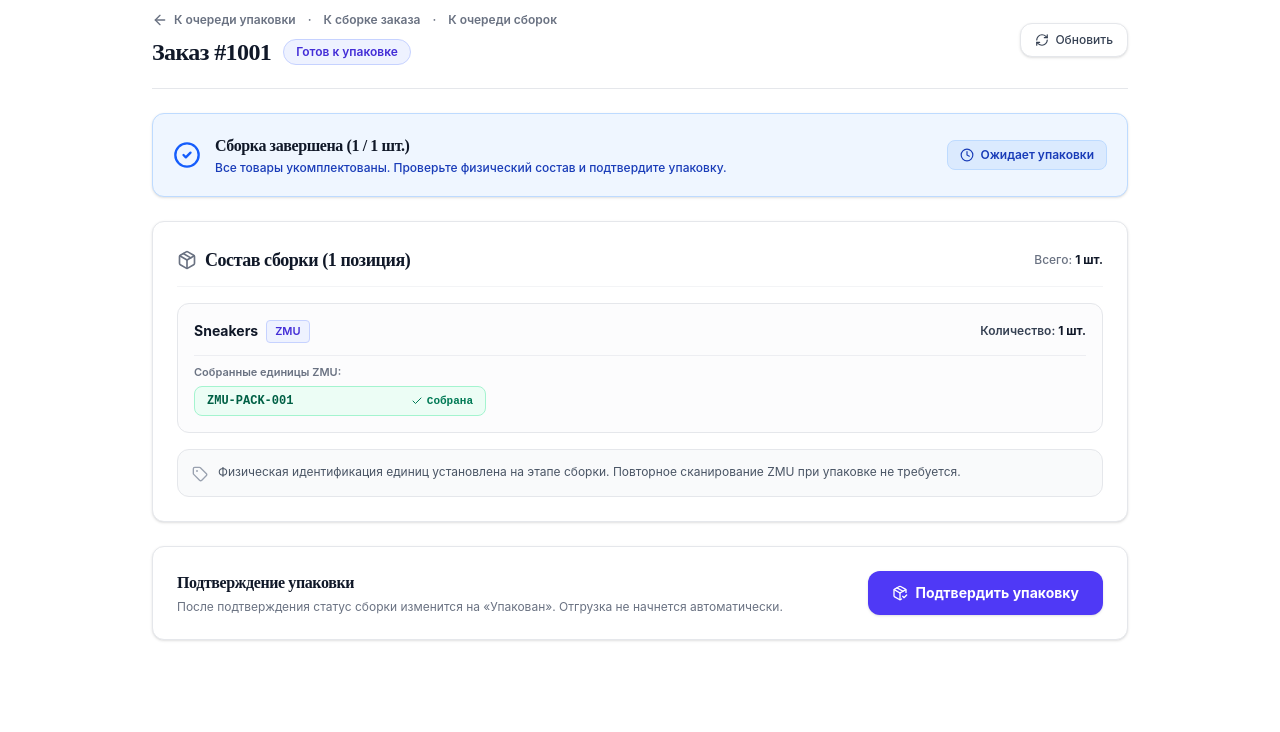
it: AdminPackingDetail Capability Guard & Least Privilege › enables packing button and allows pack confirmation for employee with warehouse.packing
Click the button "Подтвердить упаковку" at [985, 593], box [868, 571, 1103, 615]
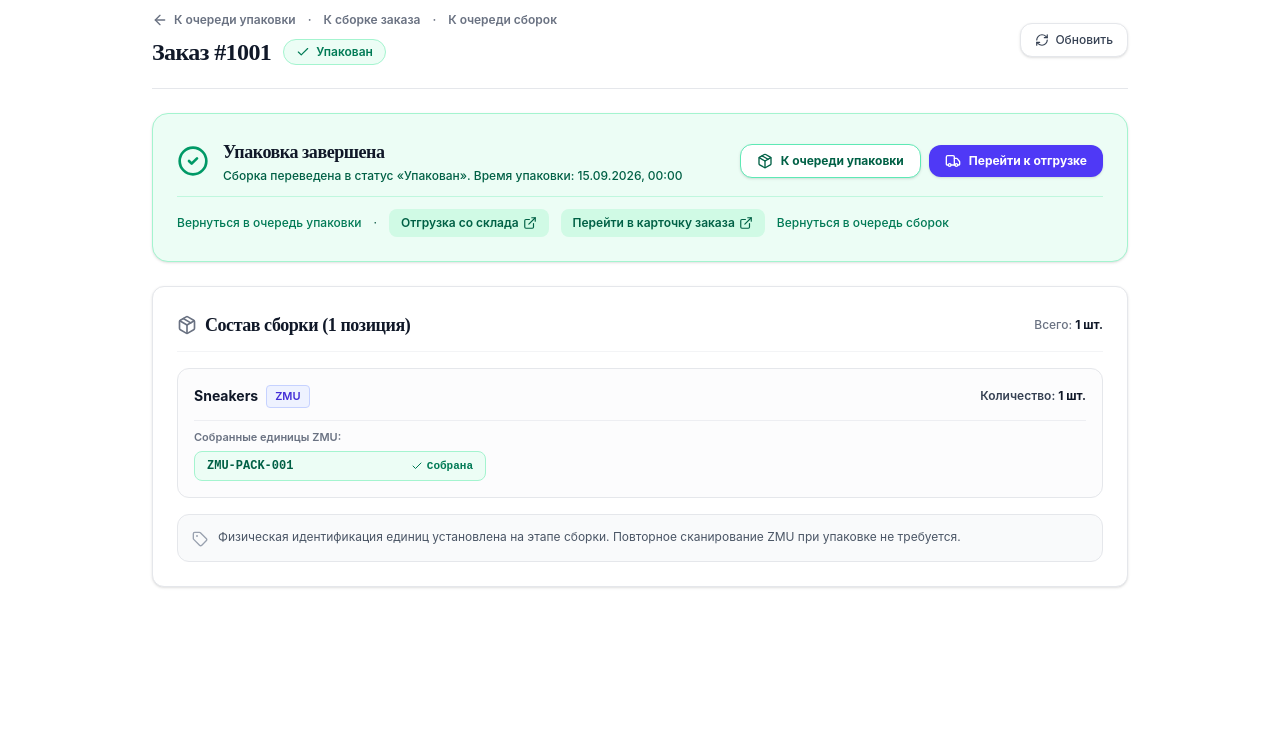
Now the heading "Упаковка завершена" is shown, box [223, 142, 384, 162]
